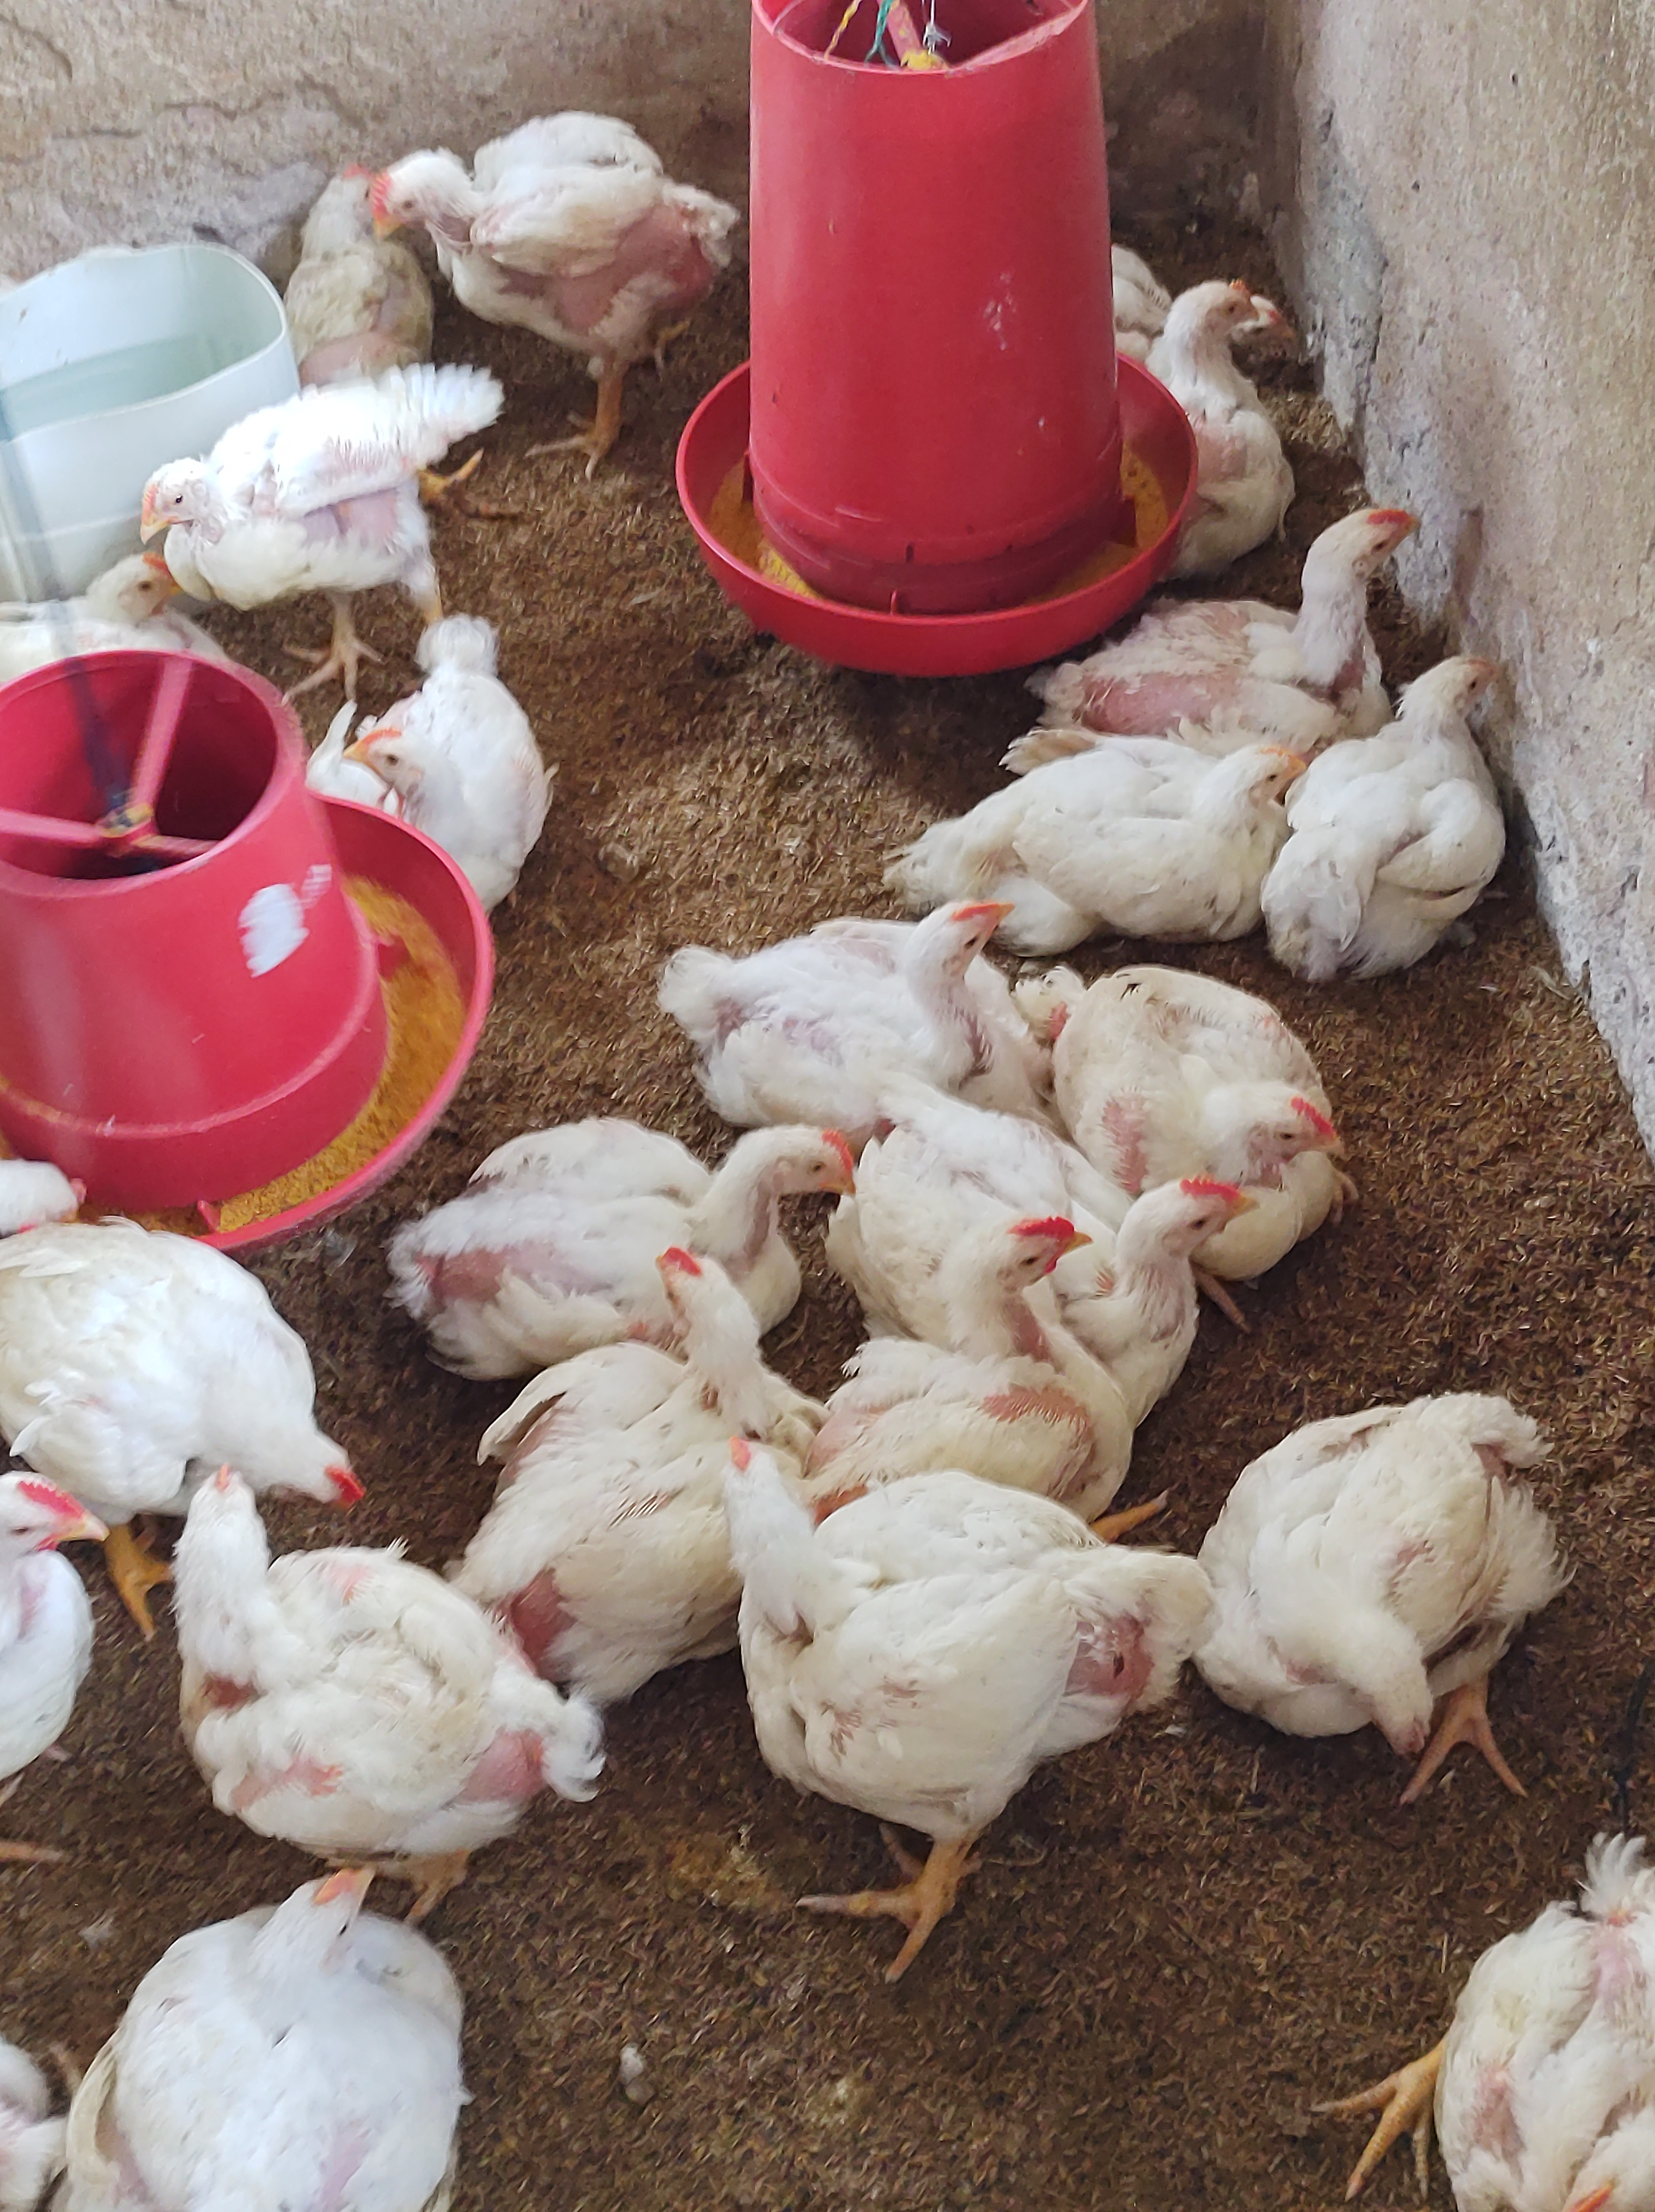Pollos: (638, 1426, 1215, 1993), (110, 1416, 608, 1873), (1220, 1396, 1608, 1789), (129, 1857, 489, 2212), (1326, 1833, 1655, 2212), (80, 358, 522, 572), (1293, 635, 1559, 984), (369, 115, 756, 348), (998, 703, 1318, 965), (332, 631, 600, 922), (0, 1461, 158, 1902), (654, 883, 1001, 1082), (1074, 932, 1342, 1179), (459, 1101, 866, 1261), (876, 1193, 1080, 1388), (212, 1353, 405, 1518), (614, 1233, 784, 1407), (1250, 480, 1434, 616), (1095, 1139, 1240, 1309), (296, 136, 388, 310), (61, 553, 191, 656), (1160, 268, 1245, 379), (1212, 285, 1313, 355)
